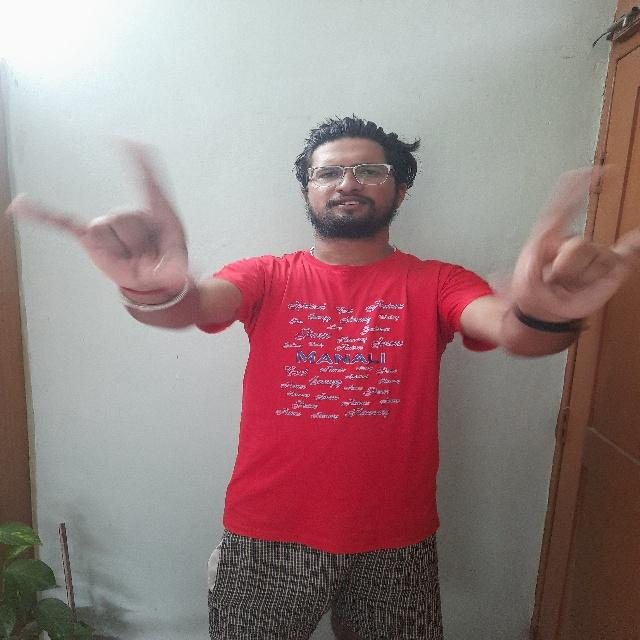Corna: (12, 134, 201, 310)
